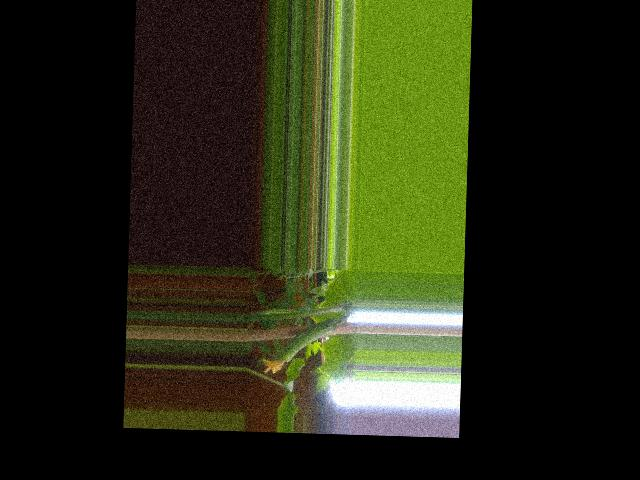cucumber: (261, 317, 336, 376)
